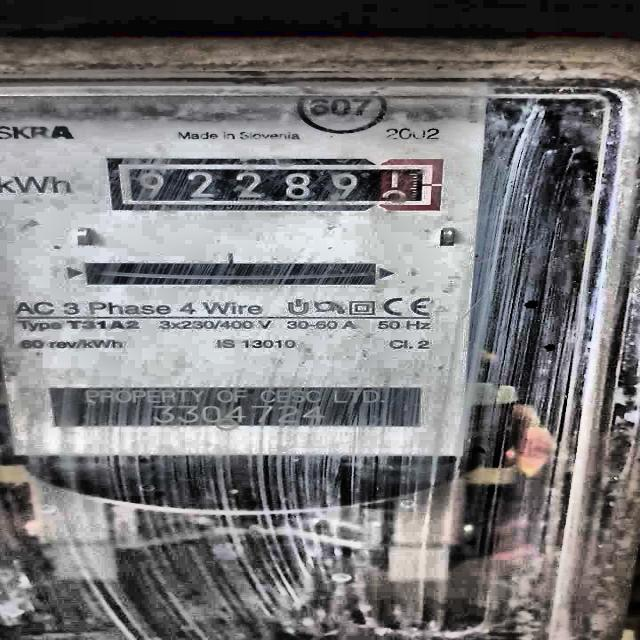Analog: (0, 37, 629, 514)
Reading: (130, 170, 416, 200)
Serial No.: (152, 402, 332, 424)
